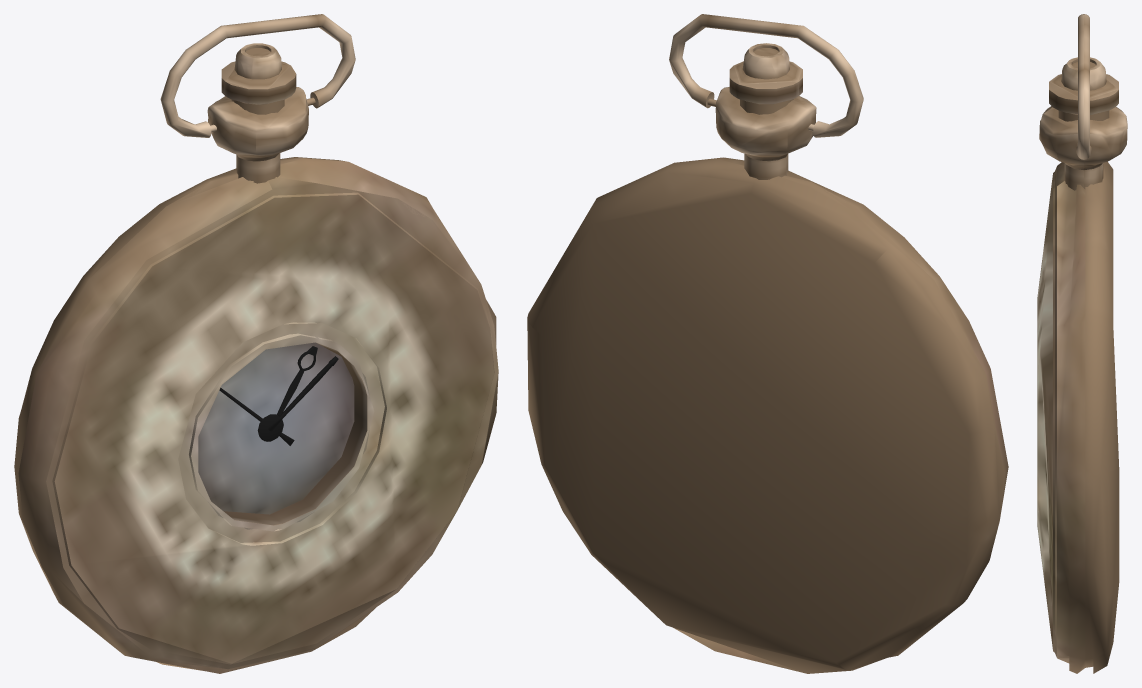
3 renders of one model, left to right at view 1: azimuth 30°, elevation 25°; view 2: azimuth 150°, elevation 25°; view 3: azimuth 270°, elevation 25°, orthographic. The views are drawn at different scales.
Visible parts, largest first — view 1: vintage_pocket_watch; view 2: vintage_pocket_watch; view 3: vintage_pocket_watch.
Boxes of the visible parts, x1,y1,x2,y2 form: vintage_pocket_watch: (14,14,498,673); vintage_pocket_watch: (527,14,1008,673); vintage_pocket_watch: (1037,14,1127,673).
Bounding box in the file's own units: 0.0607 × 0.0789 × 0.0105.
Materials: 3 (1 with a texture image).
